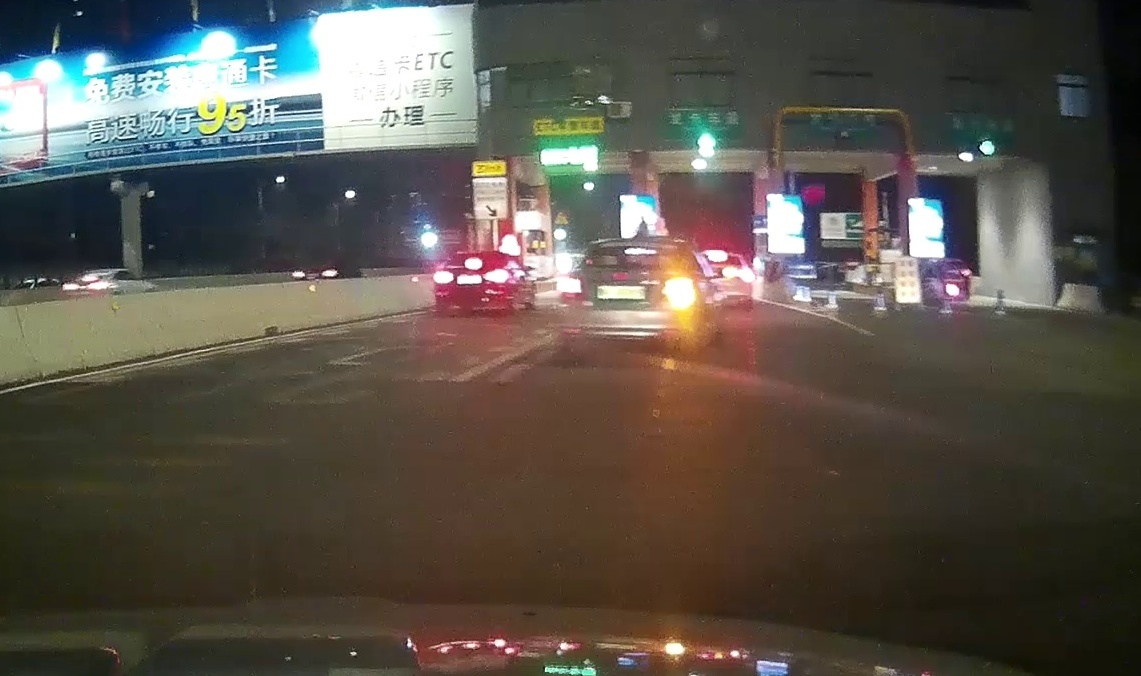L_light: (555, 276, 583, 299), (433, 272, 455, 284)
R_light: (662, 277, 695, 300), (483, 269, 509, 282)
T_light: (623, 246, 657, 254), (465, 261, 483, 267)
night-brake: (432, 250, 511, 315)
night-right: (555, 236, 698, 349)
